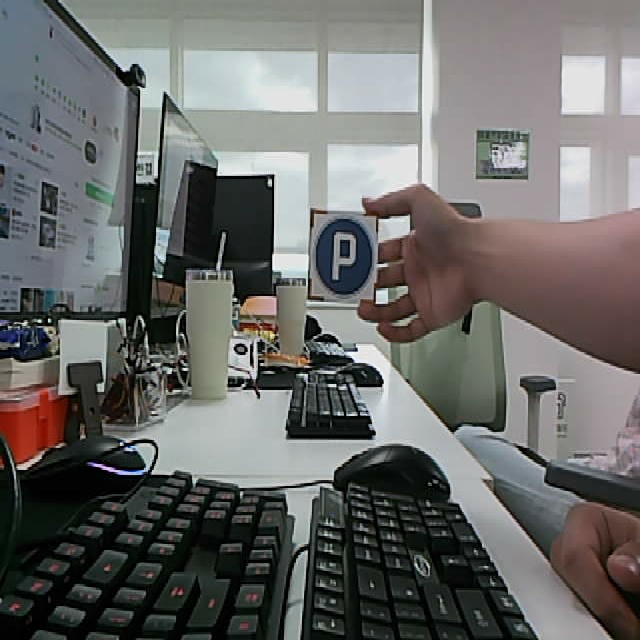parking: (304, 206, 380, 304)
